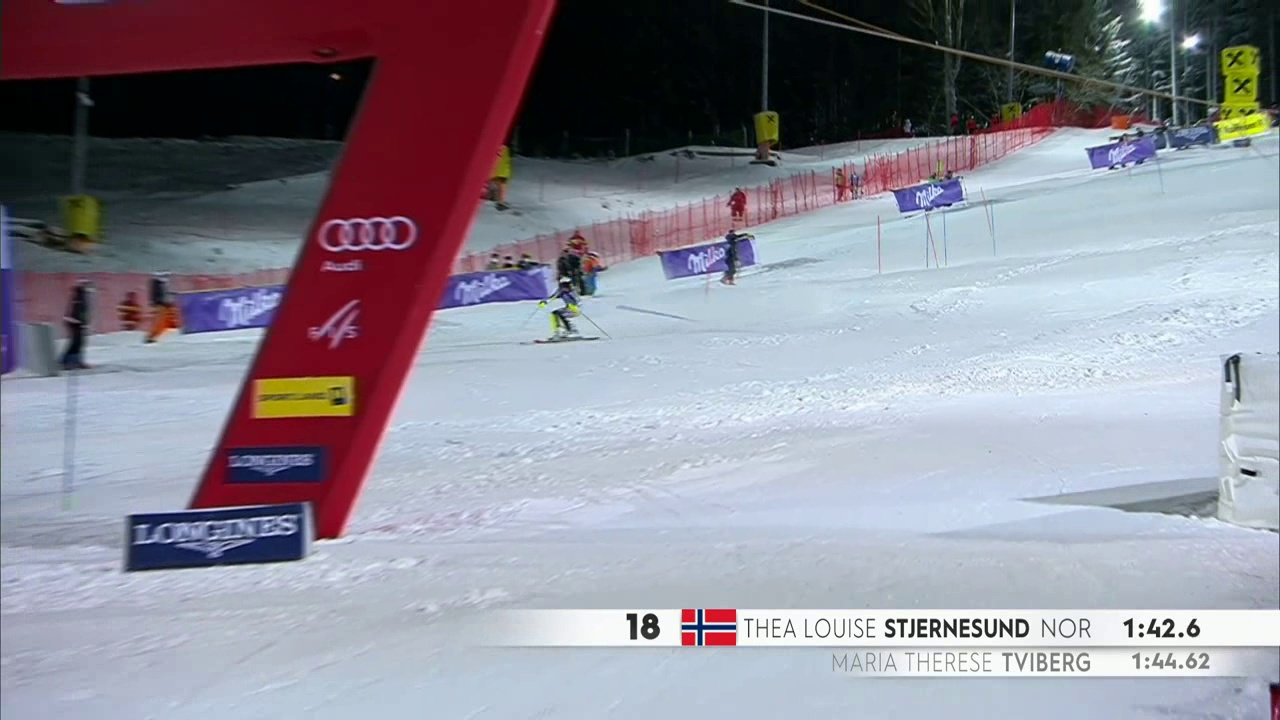audi: (313, 212, 425, 264)
longines: (122, 507, 312, 570), (217, 448, 331, 485)
raiffeisen: (1221, 42, 1260, 80), (1225, 76, 1261, 105)
